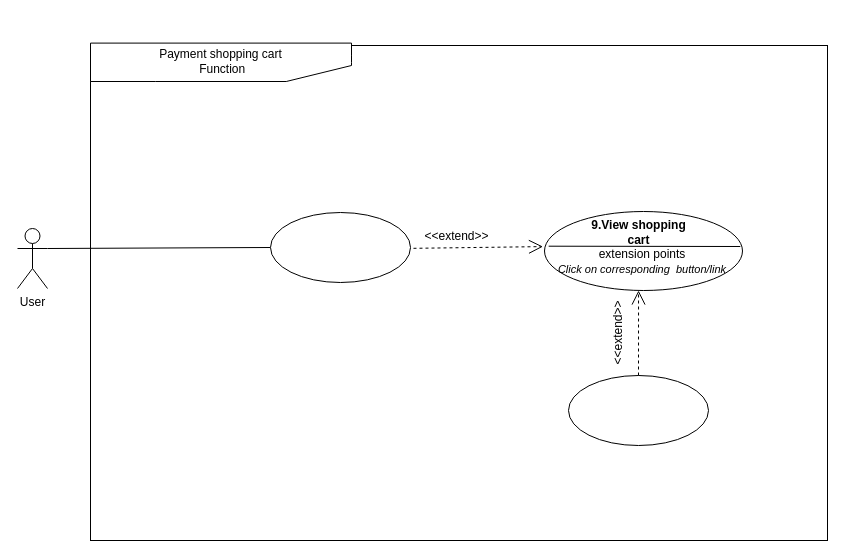
This 845x558 diagram has some shape labels left out. The box of each missing label's shape, as (x1, y1, x2, y2) in pixels:
9.1.Payment shopping cart: (270, 212, 410, 282)
9.2.Delete products in shopping cart: (568, 374, 708, 446)
